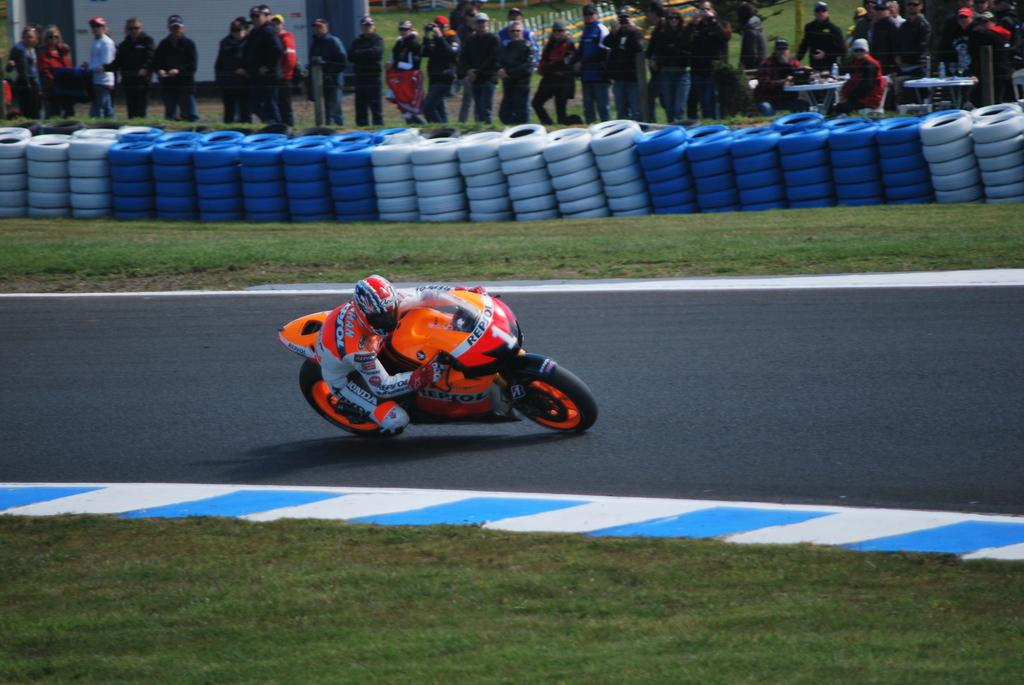helmet: (353, 274, 401, 338)
nohelmet: (735, 2, 754, 27), (167, 13, 185, 39), (773, 37, 790, 64), (248, 5, 267, 29), (645, 0, 664, 24), (851, 37, 870, 61), (229, 19, 248, 42), (310, 17, 329, 40), (956, 6, 974, 30), (88, 16, 107, 38), (664, 7, 683, 29), (43, 27, 62, 48), (359, 15, 376, 38), (433, 15, 450, 38), (473, 11, 490, 34), (582, 2, 599, 25), (813, 0, 830, 23), (126, 16, 142, 40), (21, 25, 38, 47), (397, 19, 414, 41), (551, 18, 567, 41), (507, 7, 524, 28), (463, 5, 479, 26), (270, 13, 285, 35), (509, 20, 524, 42)
